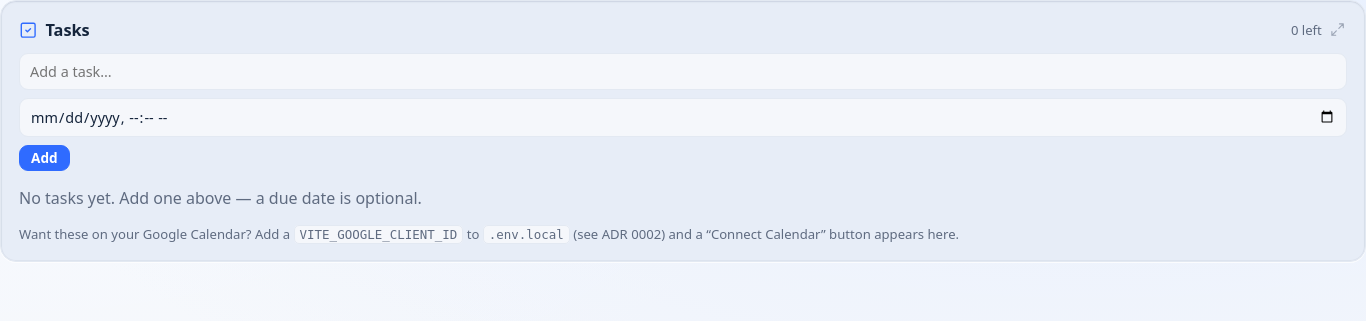
RemindersWidget working through the list › drops a completed task out of that count
The image size is (1366, 321).
Type "One" into the field with placeholder "Add a task…". click: (683, 72)
box: [19,53,1347,90]
Then press Enter
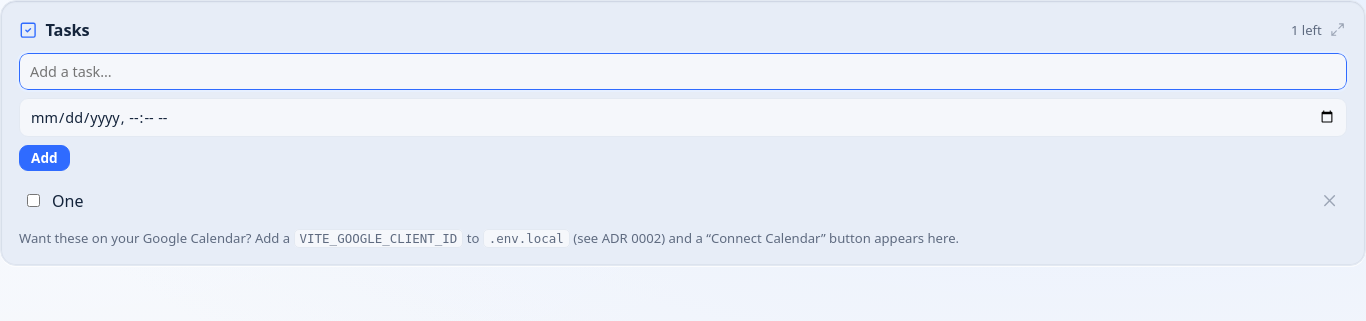
Type "Two" into the field with placeholder "Add a task…". click: (683, 72)
box: [19,53,1347,90]
Then press Enter
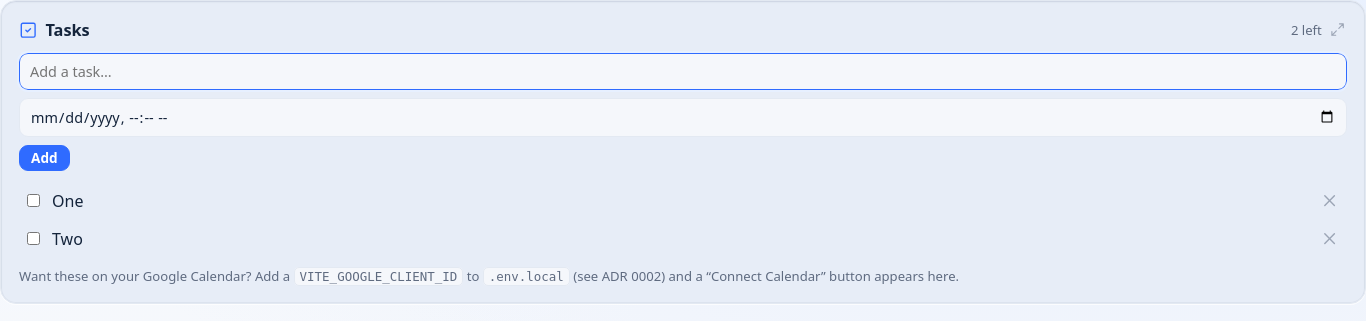
Click the checkbox labelled "One". click: click(34, 201)
box: [27,194,40,207]
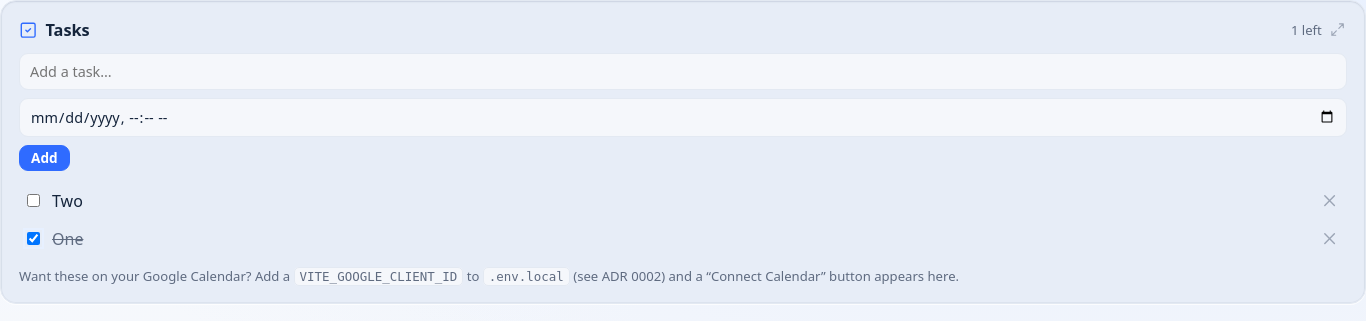
Expected: the text "1 left" is shown, [1291,21,1322,39]
